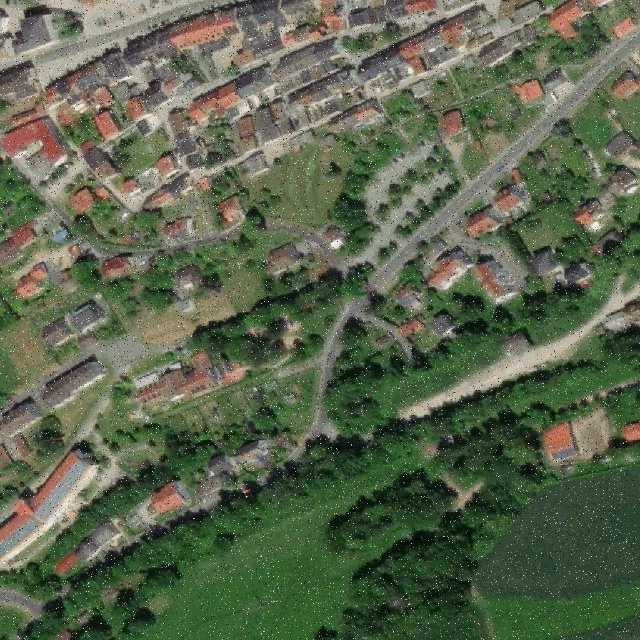vegetation: (0, 285, 640, 637), (317, 383, 639, 640), (71, 213, 262, 316), (194, 262, 375, 362), (333, 129, 401, 258)
